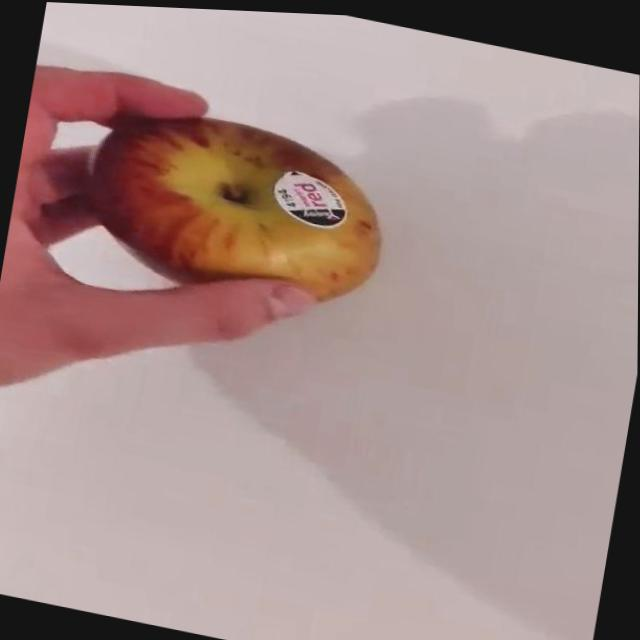Apple: (74, 97, 395, 327)
